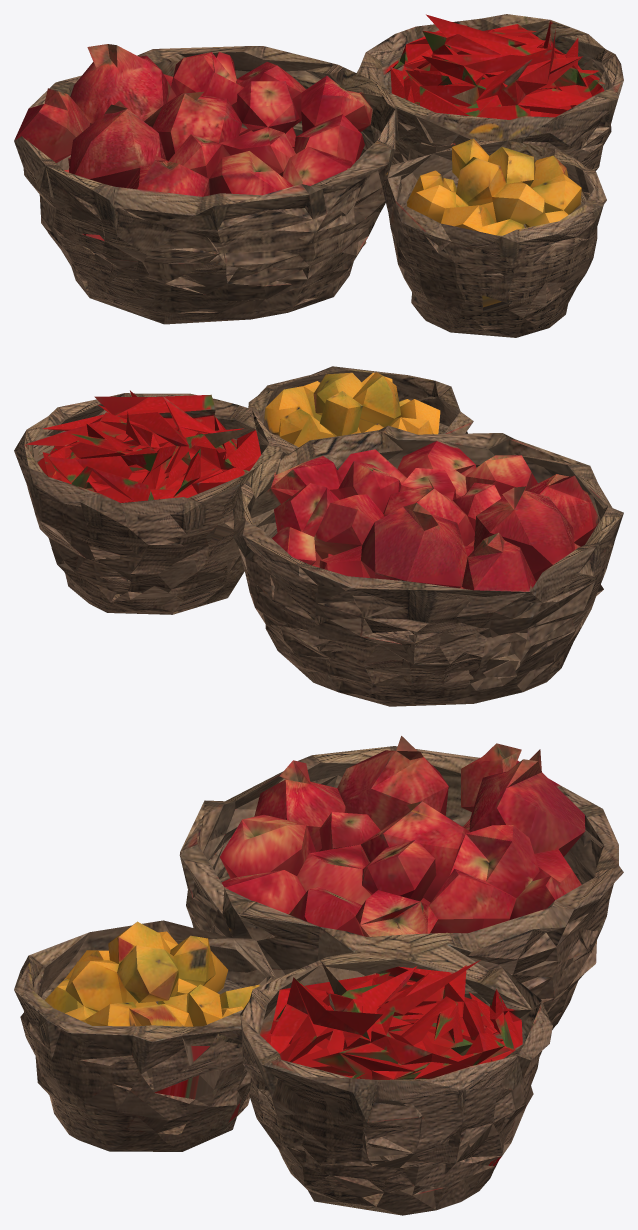
Rendered from fruit_basket.glb.
3 views of the same model, one above another, from view 1: azimuth 30°, elevation 25°; view 2: azimuth 150°, elevation 25°; view 3: azimuth 270°, elevation 25° (orthographic). The views are drawn at different scales.
Parts seen in each view (by area): view 1: Mesh_0; view 2: Mesh_0; view 3: Mesh_0.
Boxes of the visible parts, x1=… form: Mesh_0: x1=14, y1=14, x2=623, y2=337; Mesh_0: x1=14, y1=366, x2=623, y2=706; Mesh_0: x1=14, y1=736, x2=623, y2=1215.
Size of the model in its own units: 1.1 by 0.3797 by 0.8814.
Materials: 1 (1 with a texture image).
